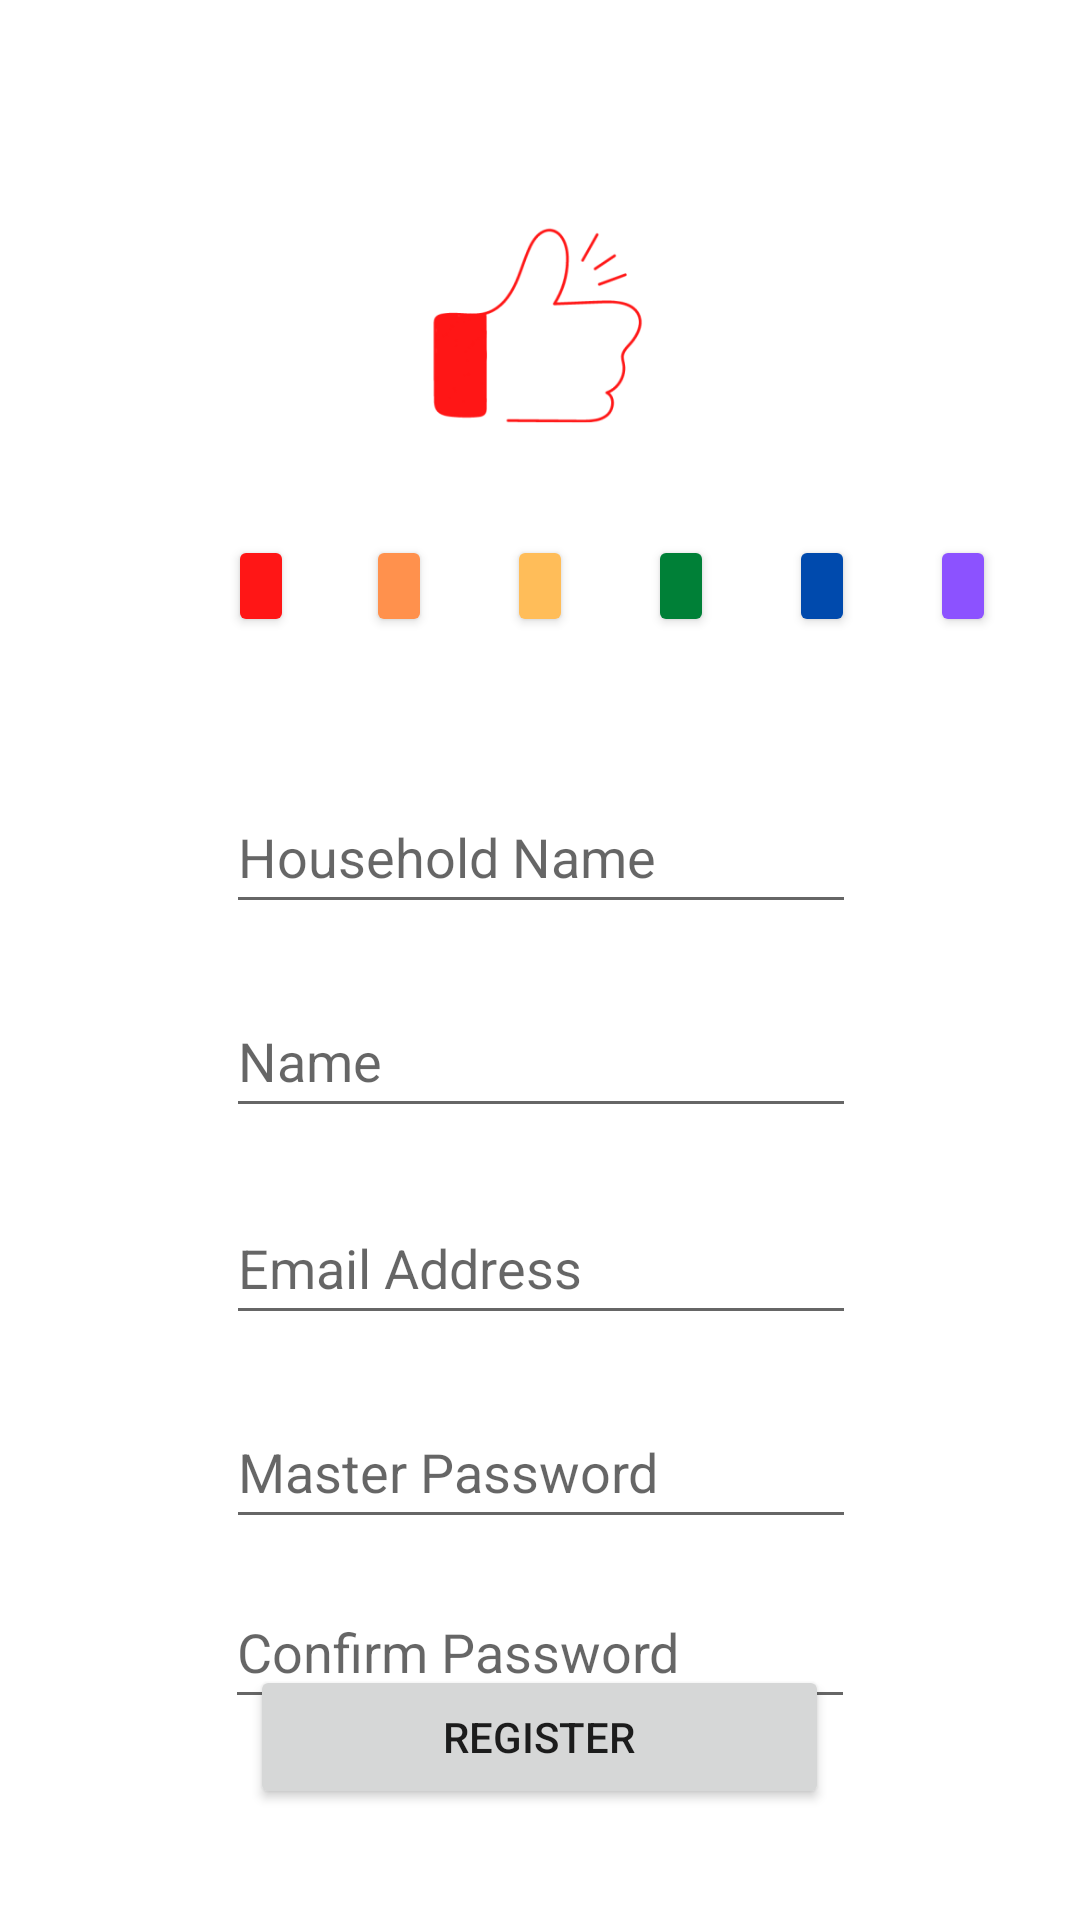

Point at icon controls on the screen. Image size 1080x1920, points as (x=x, y=y).
thumb: (x=537, y=325)
